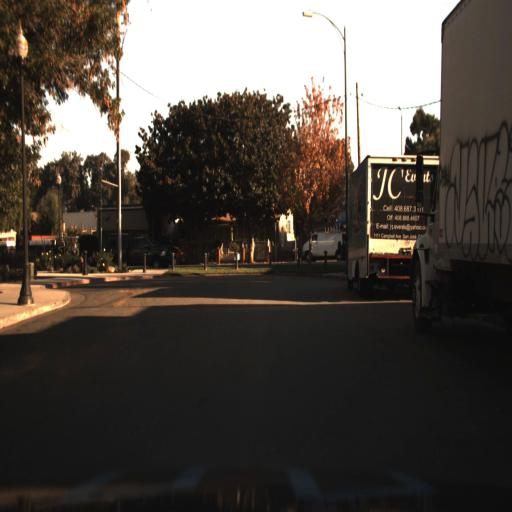car: (341, 149, 454, 296), (301, 224, 349, 263), (299, 226, 346, 263), (146, 242, 189, 269)
truck: (412, 0, 511, 329), (333, 148, 420, 307)
